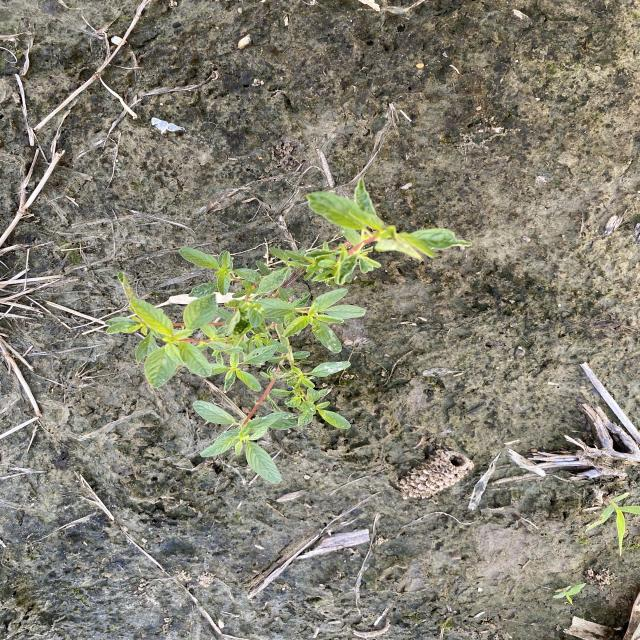Waterhemp: (102, 176, 475, 486)
